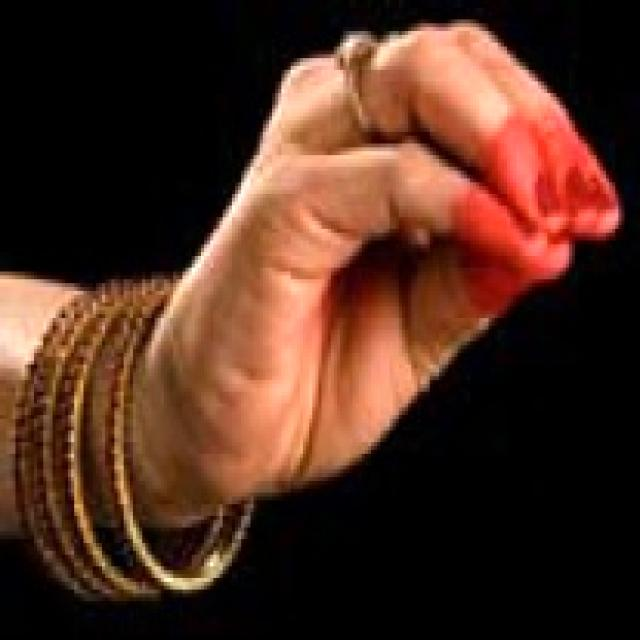Samdamsha: (212, 0, 620, 565)
